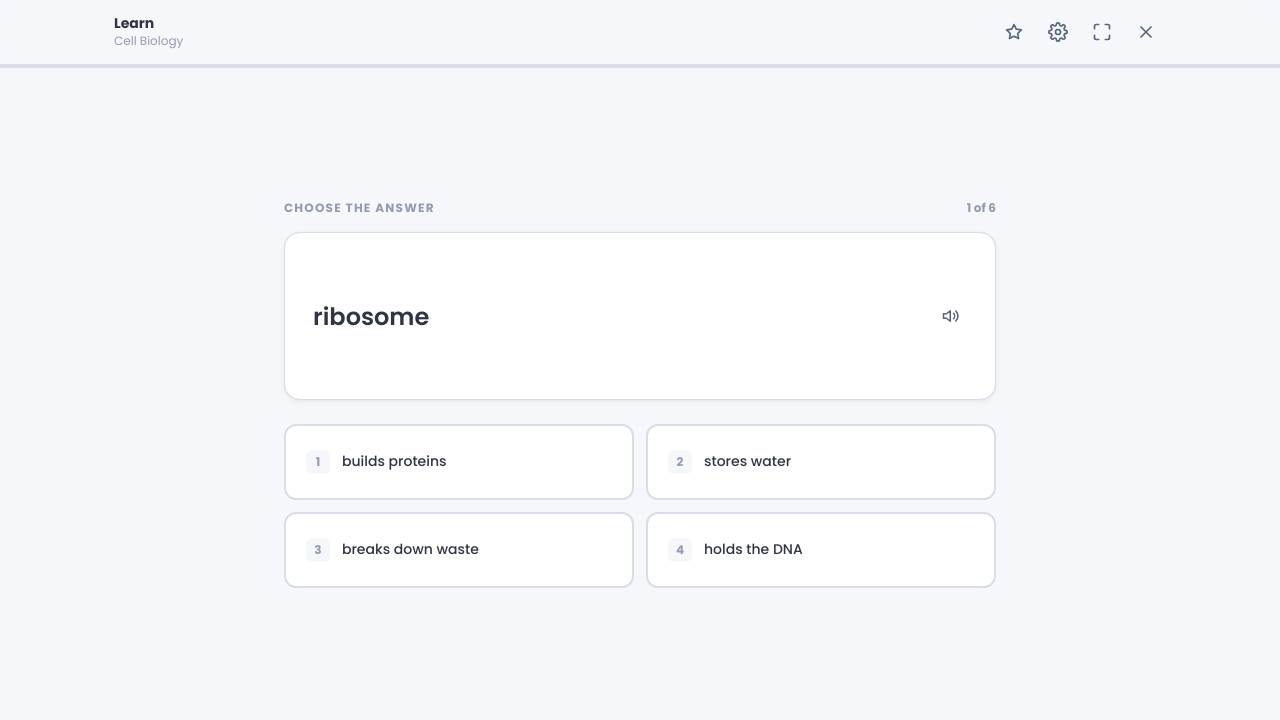
Test: Learn › reveals the answer after a multiple-choice pick and records it
Expected: the text "Choose the answer" is shown, [284,200,435,216]
Click the button "1 builds proteins" at (394, 461), box [284,424,634,500]
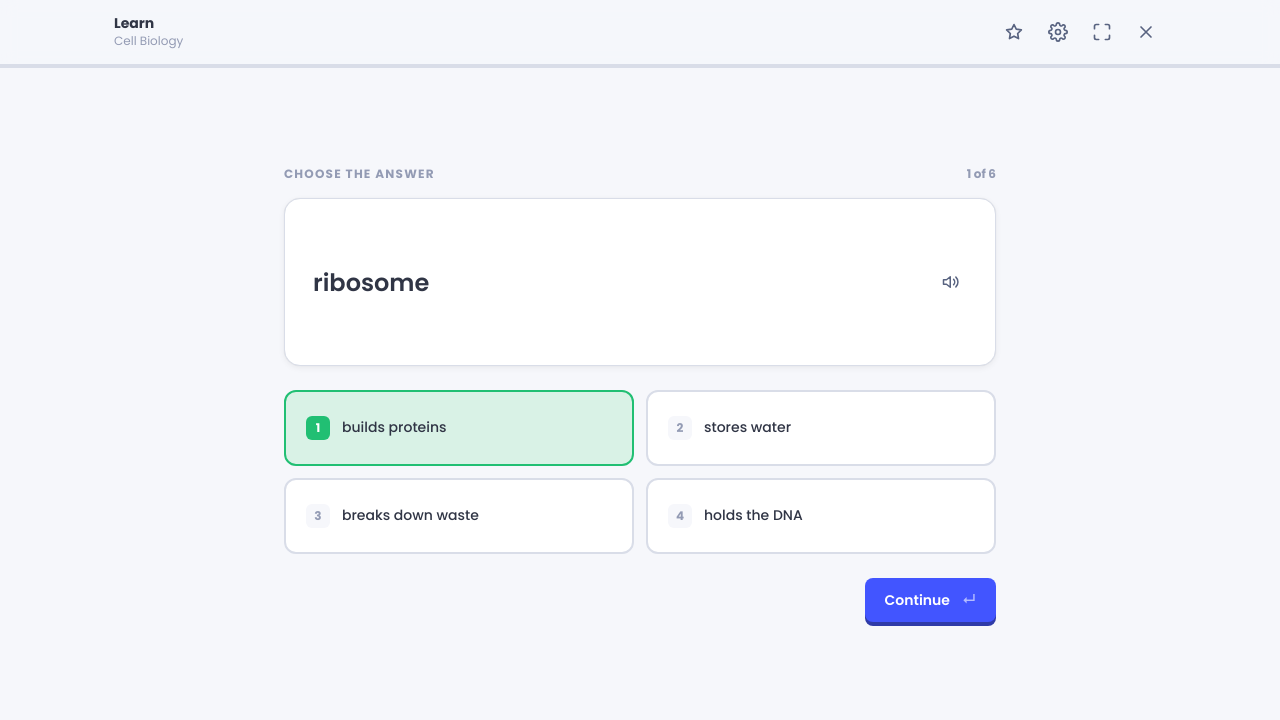
Result: the button "Continue ↵" is shown at [864,578,996,622]
